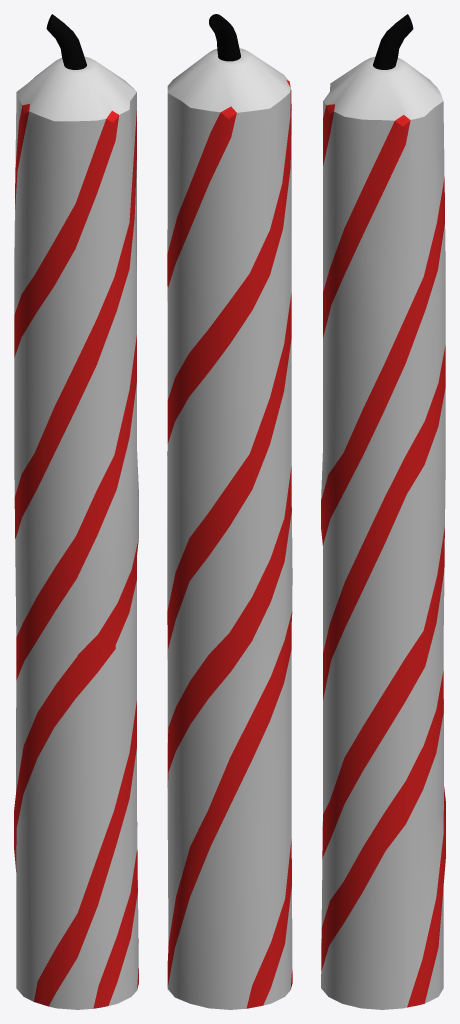
Rendered from vela.fbx.
The picture shows the model from 3 angles, left to right: view 1: azimuth 90°, elevation 25°; view 2: azimuth 150°, elevation 25°; view 3: azimuth 270°, elevation 25°; orthographic projection.
Parts seen in each view (by area): view 1: Cylinder001; view 2: Cylinder001; view 3: Cylinder001.
Boxes of the visible parts, <box> form: Cylinder001: <box>14,14,138,1009</box>; Cylinder001: <box>167,14,292,1009</box>; Cylinder001: <box>321,14,445,1009</box>.
Bounding box in the file's own units: 3.16 × 27.12 × 3.17.
